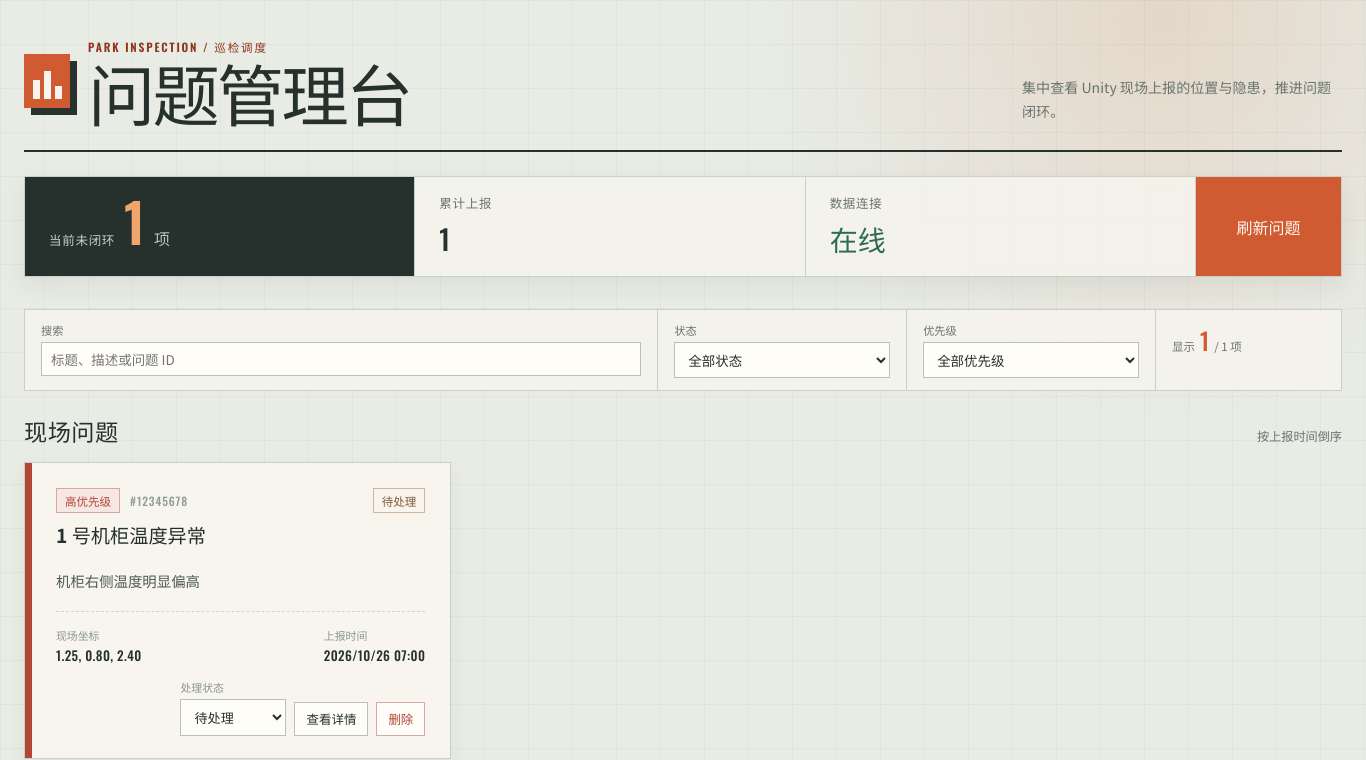
it: App › keeps the page usable when status update fails
The width and height of the screenshot is (1366, 760).
Select "已解决" in the dropdown named "修改“1 号机柜温度异常”" at (234, 718), box [180, 699, 286, 736]
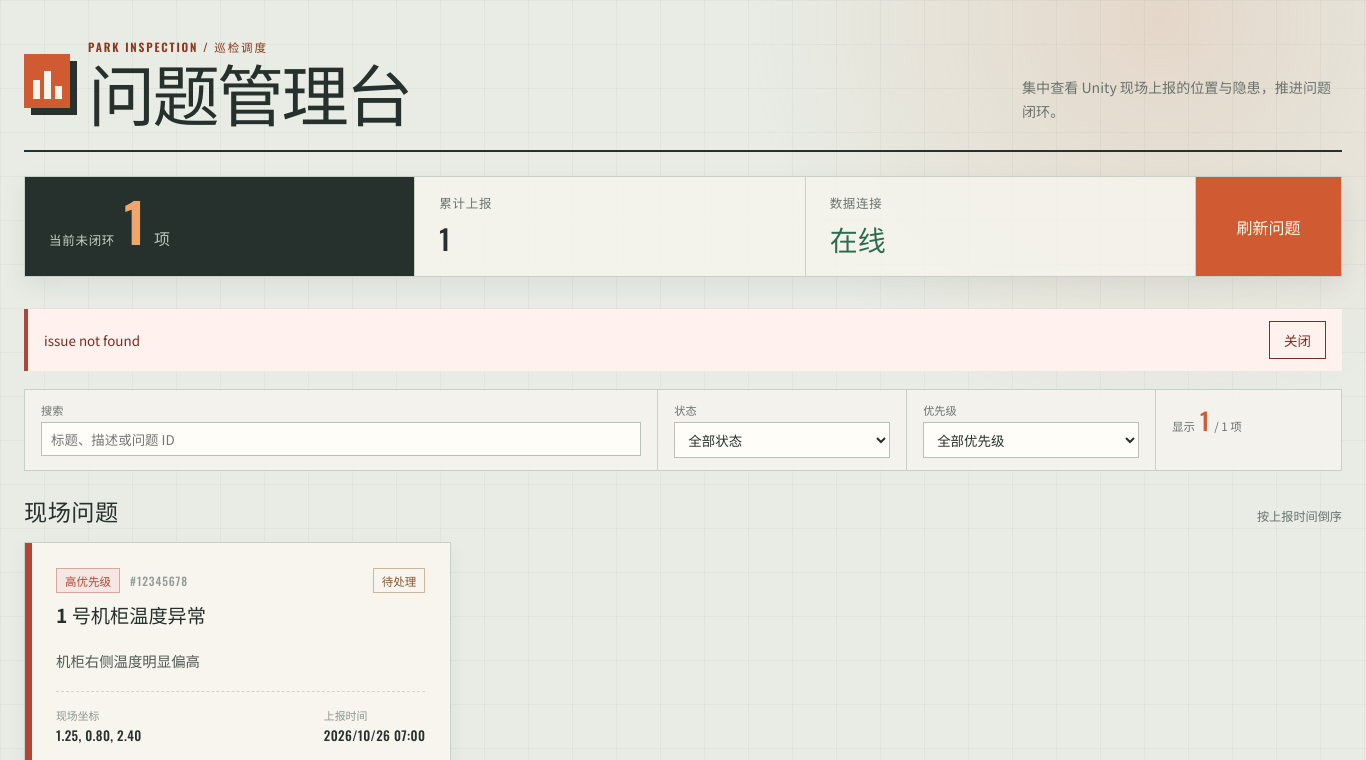
Expected: the heading "1 号机柜温度异常" is shown, [56, 602, 206, 630]
Expected: the text "issue not found" is shown, [44, 330, 140, 350]
